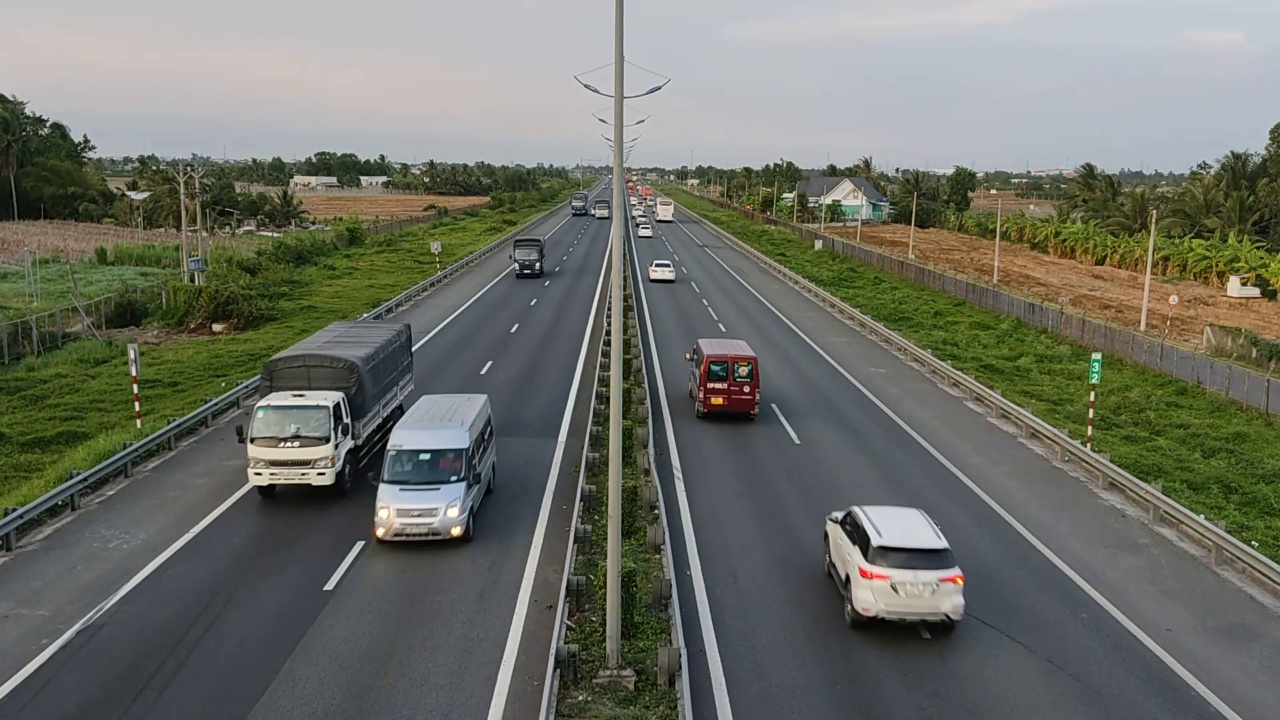bus: (237, 319, 415, 499)
car: (371, 392, 499, 545), (823, 504, 967, 637), (686, 334, 763, 427), (647, 259, 677, 283)
truck: (236, 318, 415, 501), (512, 236, 547, 277)
